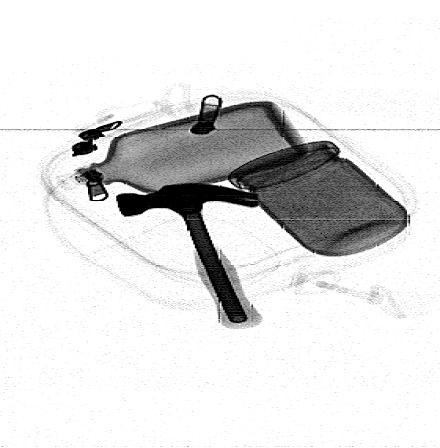Hammer: (116, 183, 264, 330)
